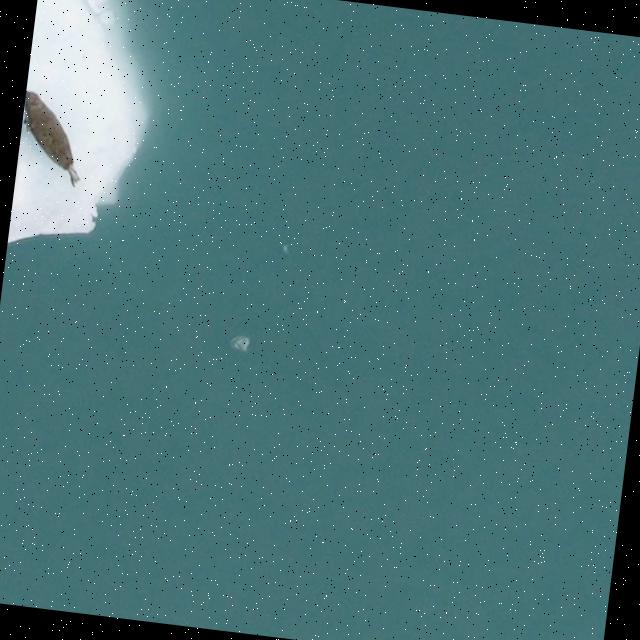seal: (11, 84, 92, 193)
